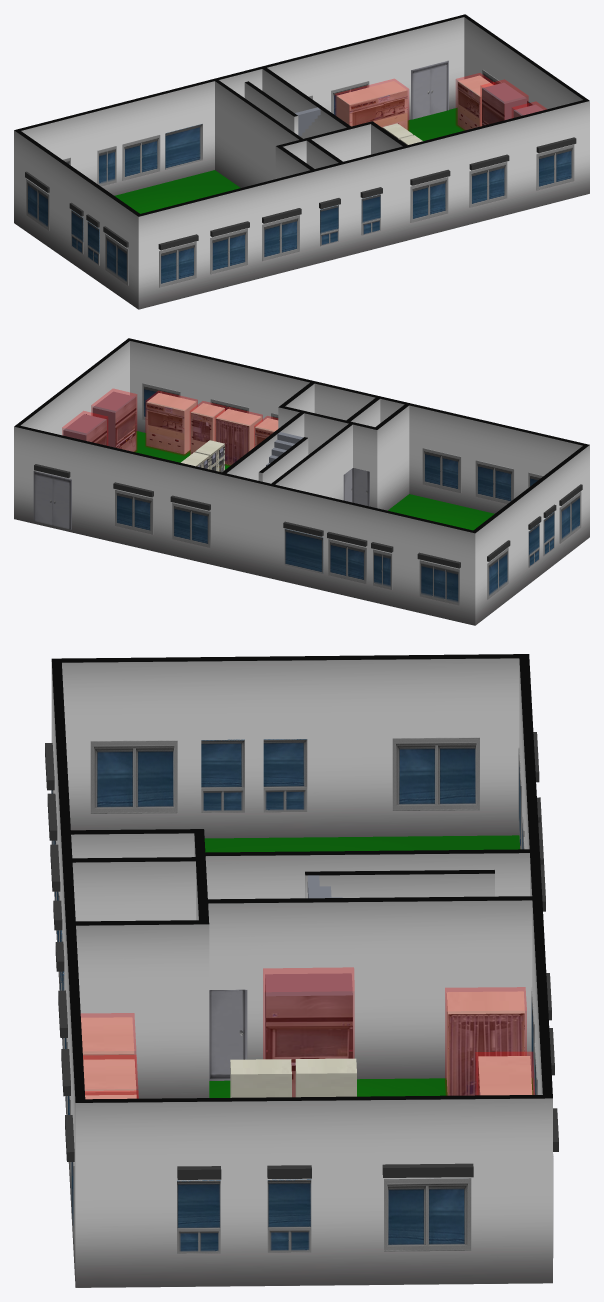
The model's file is soulbrain_UP-3-2F.glb.
3 views of the same model, one above another, from view 1: azimuth 30°, elevation 25°; view 2: azimuth 150°, elevation 25°; view 3: azimuth 270°, elevation 25° (orthographic). The views are drawn at different scales.
Visible parts, largest first — view 1: Object각도1.3도, UP-3-2F, Box688, equipment-UP-3-2F-008, Box641, Box1989, equipment-UP-3-2F-006, equipment-UP-3-2F-007, Box1997, Box1993, Box1929; view 2: Object각도1.3도, UP-3-2F, equipment-UP-3-2F-004, Box688, Box641, Box1990, equipment-UP-3-2F-005, Box1998, equipment-UP-3-2F-002, Box1995, equipment-UP-3-2F-003, Box1994 (+6 smaller); view 3: Object각도1.3도, UP-3-2F, equipment-UP-3-2F-010, Box1999, Box641, equipment-UP-3-2F-009, Box688, Box1992, equipment-UP-3-2F-008, equipment-UP-3-2F-001, Box1987, Box1988 (+4 smaller).
Part boxes in pixels (<box>): Object각도1.3도: <box>14,14,589,309</box>; UP-3-2F: <box>26,60,574,287</box>; Box688: <box>114,107,464,213</box>; equipment-UP-3-2F-008: <box>335,79,408,130</box>; Box641: <box>25,137,576,250</box>; Box1989: <box>336,81,407,129</box>; equipment-UP-3-2F-006: <box>480,79,528,125</box>; equipment-UP-3-2F-007: <box>456,73,494,130</box>; Box1997: <box>482,82,526,125</box>; Box1993: <box>457,75,492,130</box>; Box1929: <box>295,107,320,136</box>; Object각도1.3도: <box>14,338,589,625</box>; UP-3-2F: <box>33,383,581,605</box>; equipment-UP-3-2F-004: <box>145,391,197,455</box>; Box688: <box>134,431,494,530</box>; Box641: <box>34,464,582,568</box>; Box1990: <box>146,393,196,454</box>; equipment-UP-3-2F-005: <box>91,389,136,451</box>; Box1998: <box>92,391,136,451</box>; equipment-UP-3-2F-002: <box>215,407,262,465</box>; Box1995: <box>215,409,261,465</box>; equipment-UP-3-2F-003: <box>190,401,225,454</box>; Box1994: <box>190,403,224,454</box>; Object각도1.3도: <box>51,654,552,1287</box>; UP-3-2F: <box>51,737,553,1257</box>; equipment-UP-3-2F-010: <box>263,967,354,1096</box>; Box1999: <box>265,973,352,1097</box>; Box641: <box>45,732,558,1179</box>; equipment-UP-3-2F-009: <box>445,987,526,1095</box>; Box688: <box>204,835,533,1097</box>; Box1992: <box>446,991,524,1095</box>; equipment-UP-3-2F-008: <box>475,1052,534,1094</box>; equipment-UP-3-2F-001: <box>81,1013,135,1067</box>; Box1987: <box>230,1059,291,1097</box>; Box1988: <box>295,1058,356,1097</box>.
Size of the model in its own units: 24.69 by 4.7 by 11.84.
16 materials, 13 textured.
